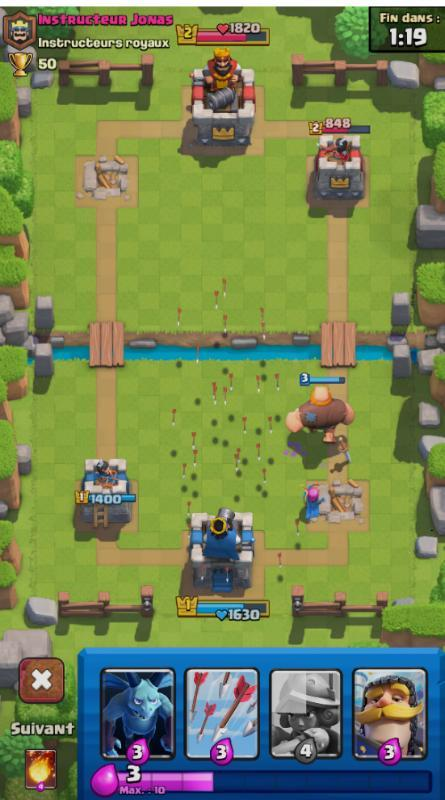enemy_arrows: (153, 259, 301, 588)
player_archers: (296, 476, 328, 523)
player_giant: (282, 377, 358, 447)
